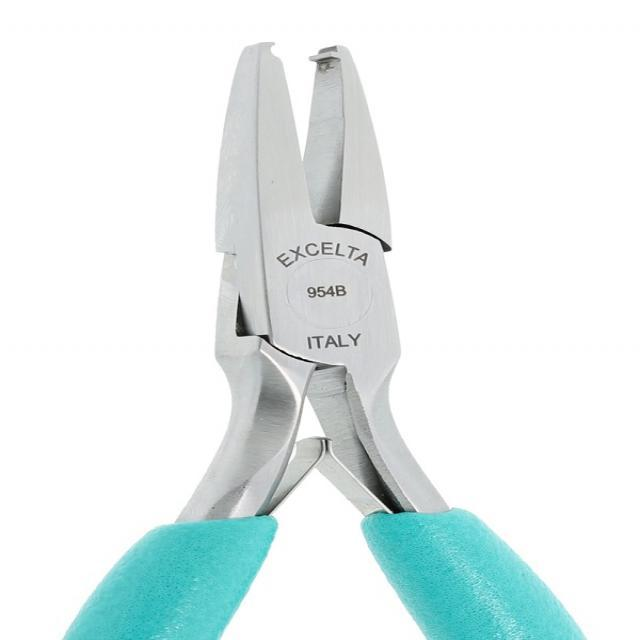pliers: (53, 33, 588, 640)
